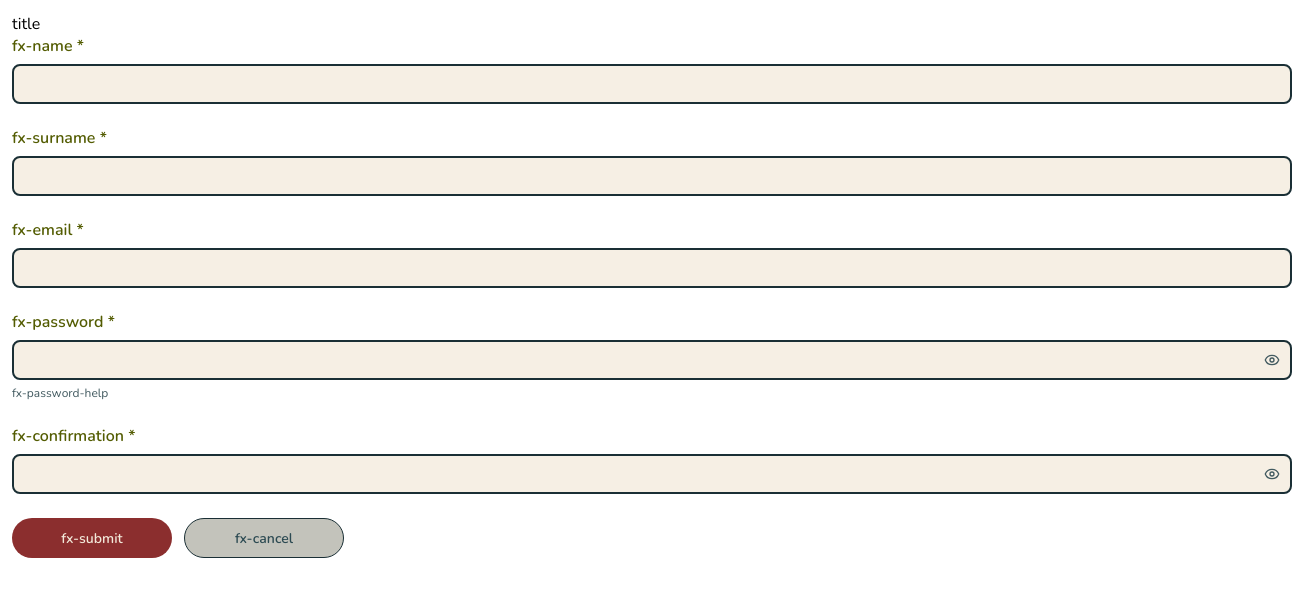
Test: RegisterForm — client checks › an empty required field shows requiredError, is invalid, takes focus and nothing is sent
This screenshot has width=1304, height=600.
In the field labelled "fx-name *": (652, 84) [12,64,1292,104], type "Ana"
In the field labelled "fx-surname *": (652, 176) [12,156,1292,196], type "López"
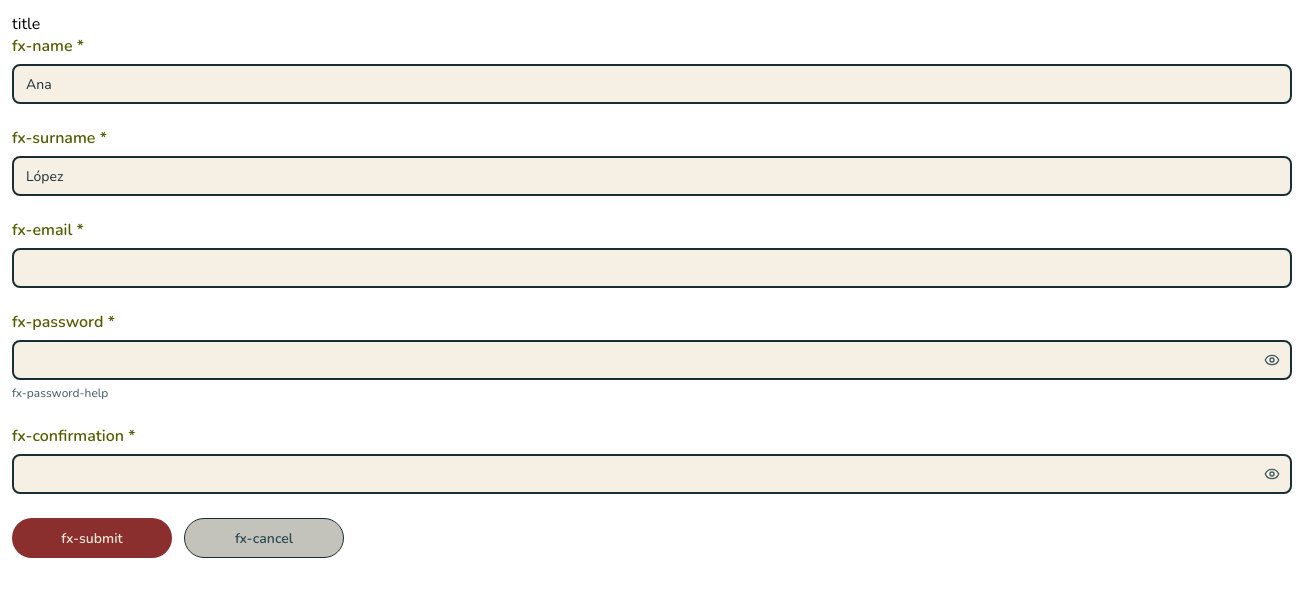
In the field labelled "fx-email *": (652, 268) [12,248,1292,288], type "ana@example.com"
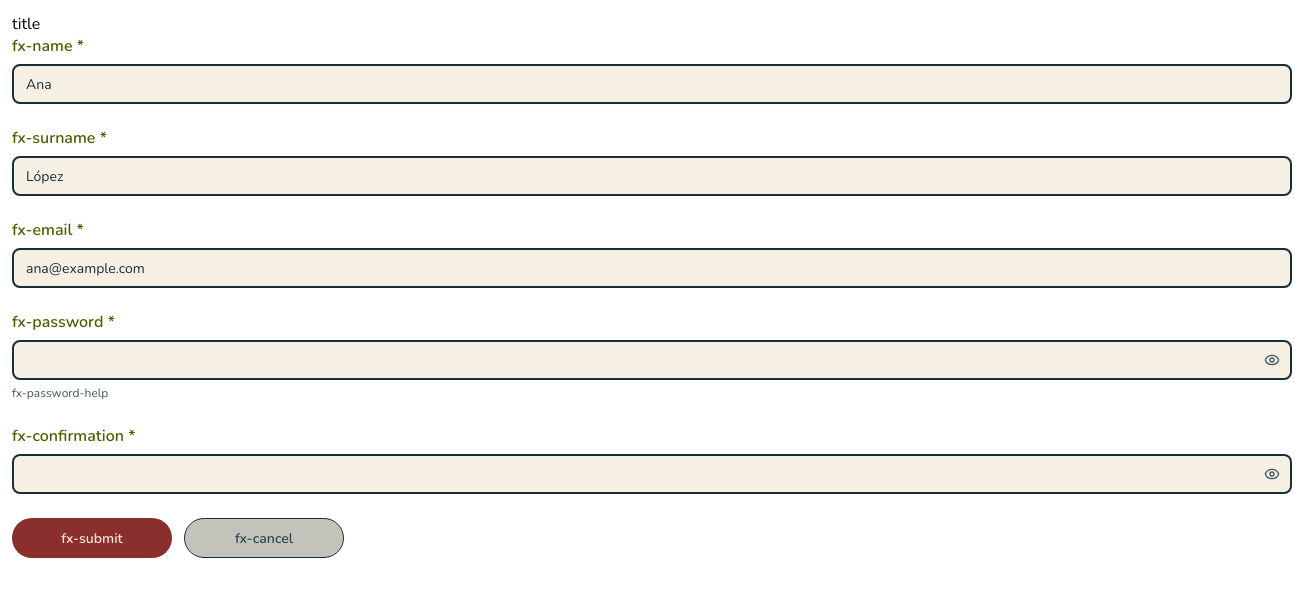
In the password field labelled "fx-password *": (652, 360) [12,340,1292,380], type "Secret123"
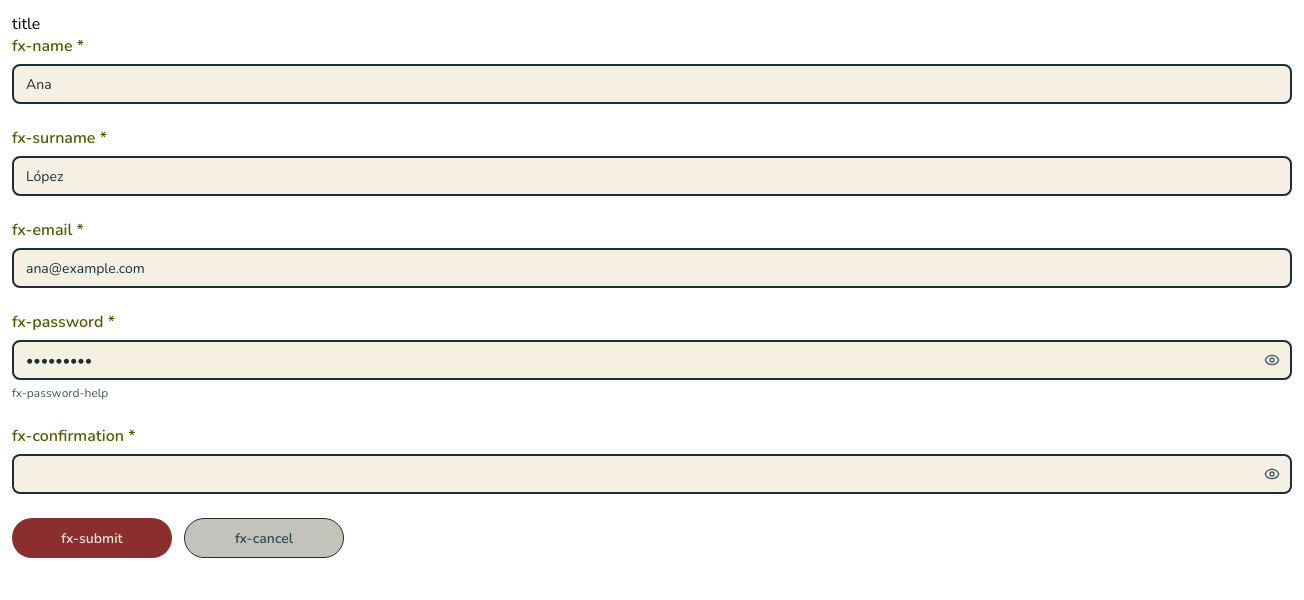
In the password field labelled "fx-confirmation *": (652, 474) [12,454,1292,494], type "Secret123"
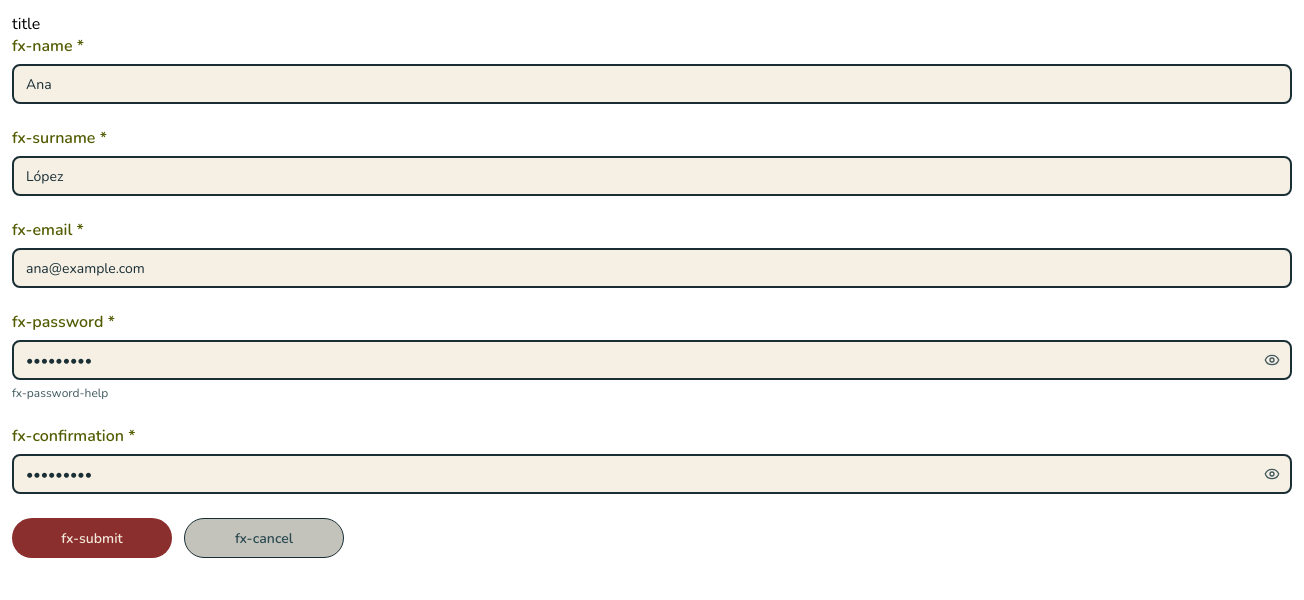
Clear the field labelled "fx-surname *": (652, 176) [12,156,1292,196]
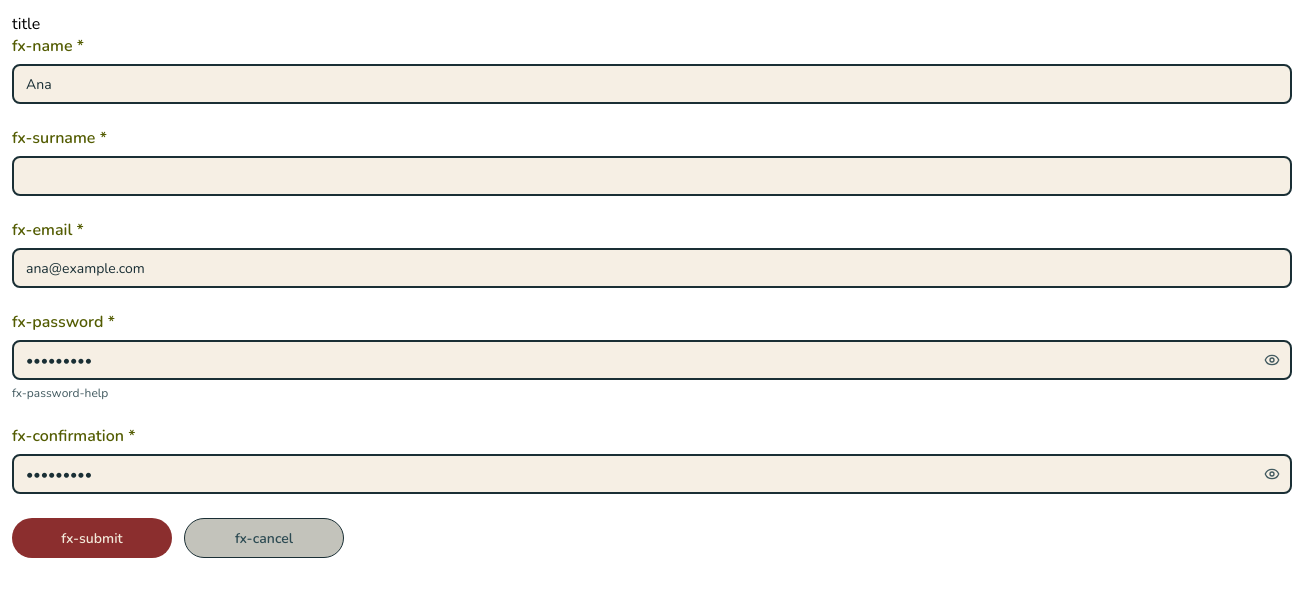
Click the button "fx-submit": (92, 538) [12,518,172,558]
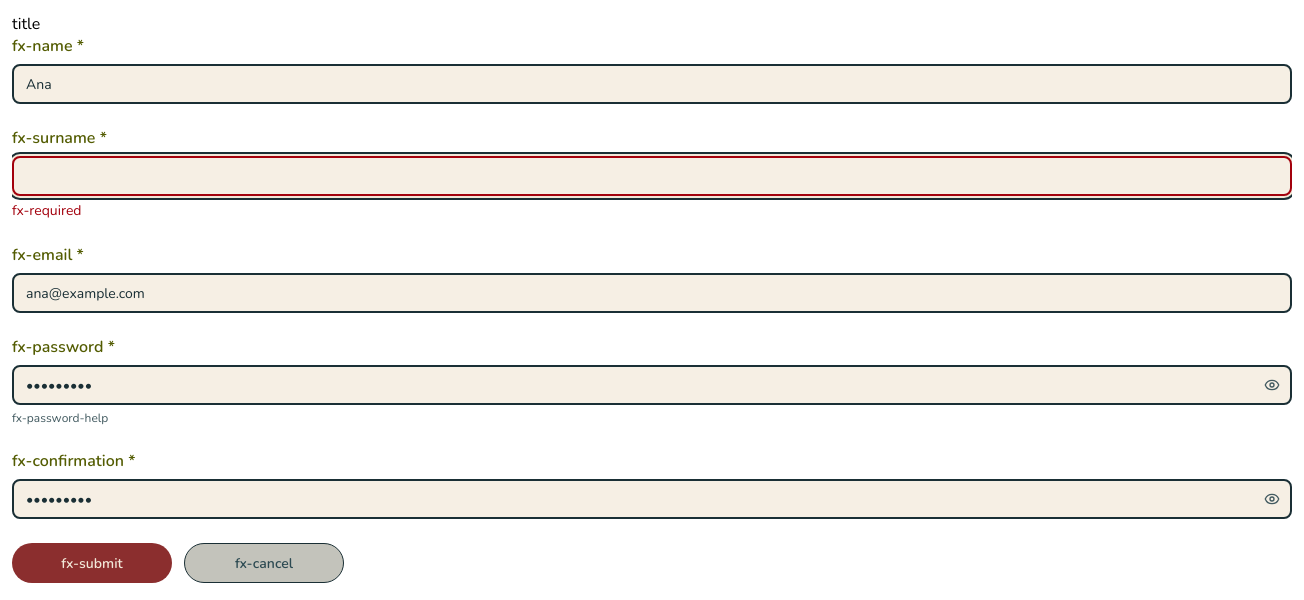
Now the text "fx-required" is shown, box [12,201,82,220]
